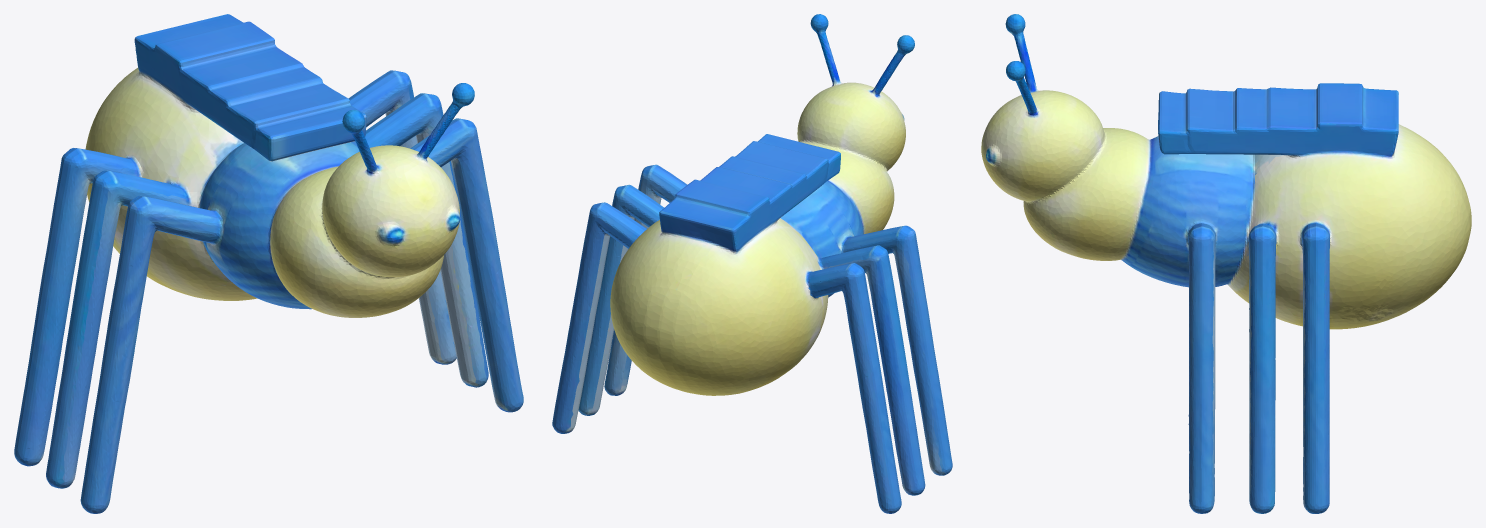
Rendered from creature-104.glb.
3 views of the same model, side by side, from view 1: azimuth 30°, elevation 25°; view 2: azimuth 150°, elevation 25°; view 3: azimuth 270°, elevation 25° (orthographic). The views are drawn at different scales.
Parts seen in each view (by area): view 1: tmpiikfifzj.ply; view 2: tmpiikfifzj.ply; view 3: tmpiikfifzj.ply.
Part boxes in pixels (x1=…): tmpiikfifzj.ply: x1=14, y1=14, x2=523, y2=513; tmpiikfifzj.ply: x1=552, y1=14, x2=952, y2=513; tmpiikfifzj.ply: x1=981, y1=14, x2=1471, y2=513.
Size of the model in its own units: 1.41 by 1.36 by 1.56.
Materials: 1 (1 with a texture image).
